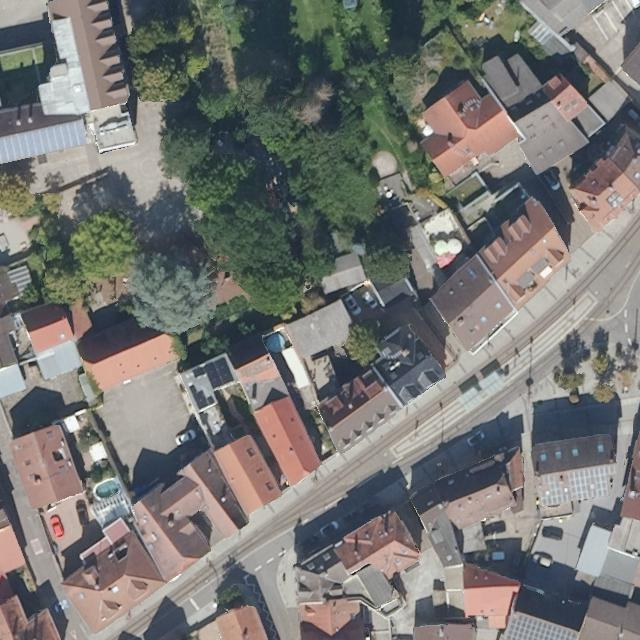PV: (1, 120, 90, 168), (501, 608, 579, 639), (567, 464, 618, 502), (191, 356, 234, 391), (537, 472, 572, 508), (188, 382, 217, 411)
